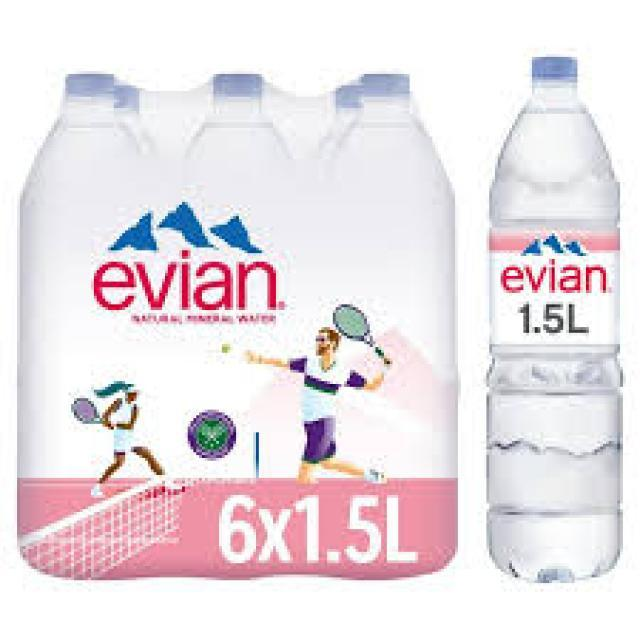bottle: (482, 33, 634, 615)
